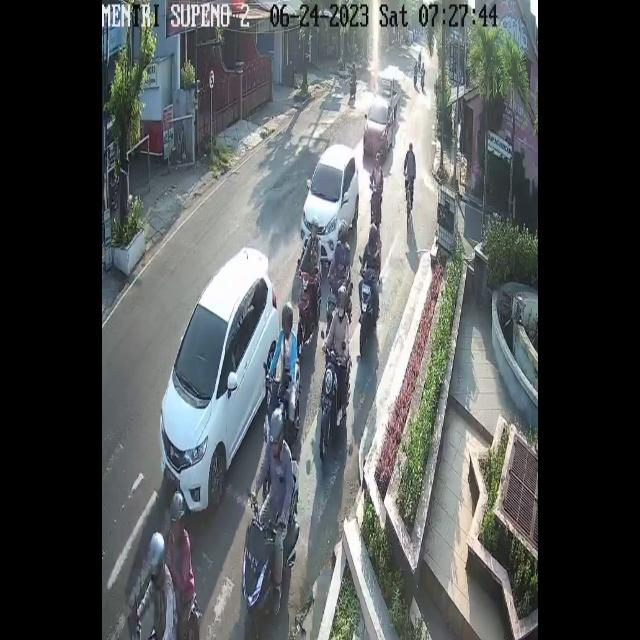bus: (242, 458, 300, 640), (322, 349, 351, 462), (266, 359, 301, 426), (299, 267, 322, 348), (359, 269, 381, 329), (329, 267, 353, 314), (370, 183, 384, 219), (348, 72, 357, 100), (420, 67, 425, 95), (413, 66, 418, 89)
motorcycle: (161, 246, 278, 510), (301, 143, 359, 264), (364, 96, 394, 160)
truck: (377, 72, 400, 111)
